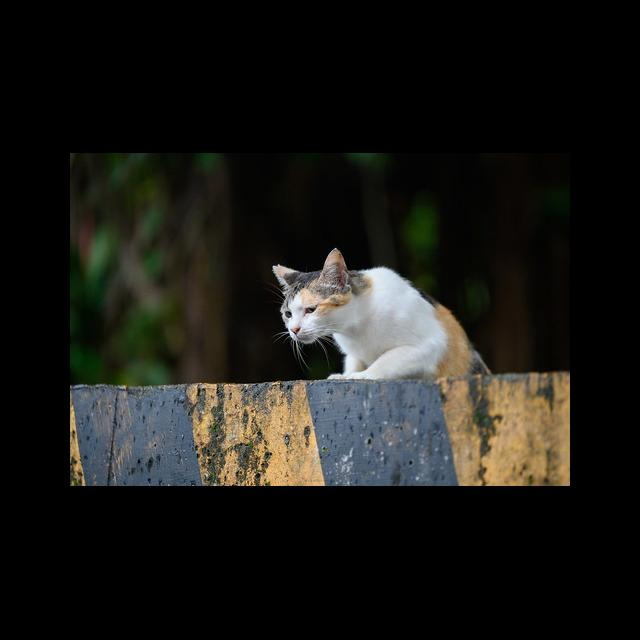animals: (264, 250, 492, 378)
